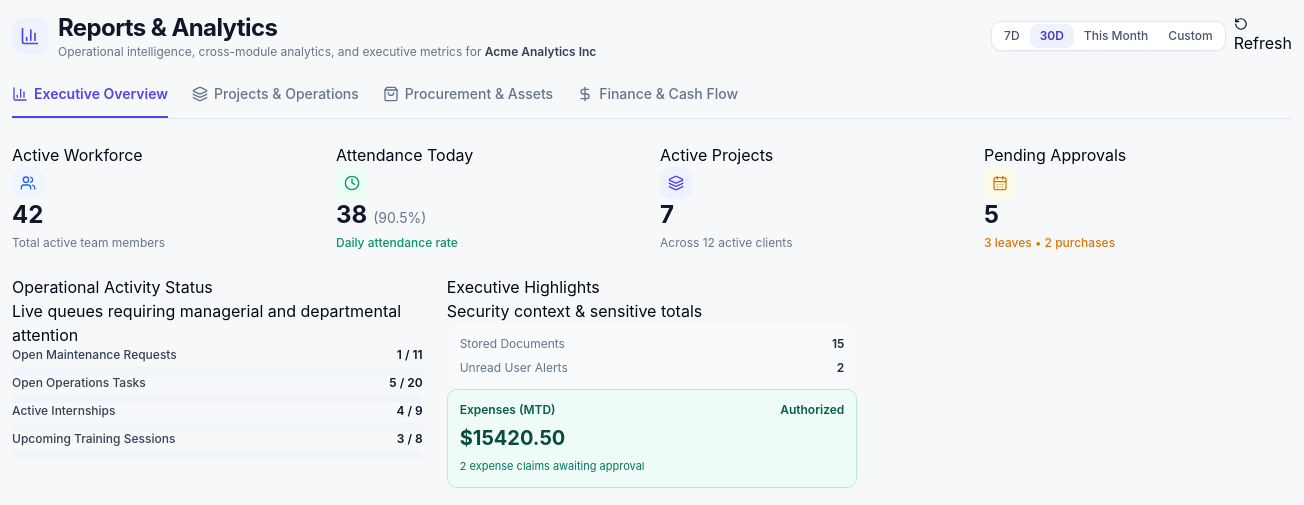
Test: ReportsPage Component › switches to Finance tab and validates strict decimal precision
Expected: the text "42" is shown, [12, 200, 43, 229]
Step 1. Click the button "Finance & Cash Flow" → coordinates (658, 101), box [577, 84, 738, 118]
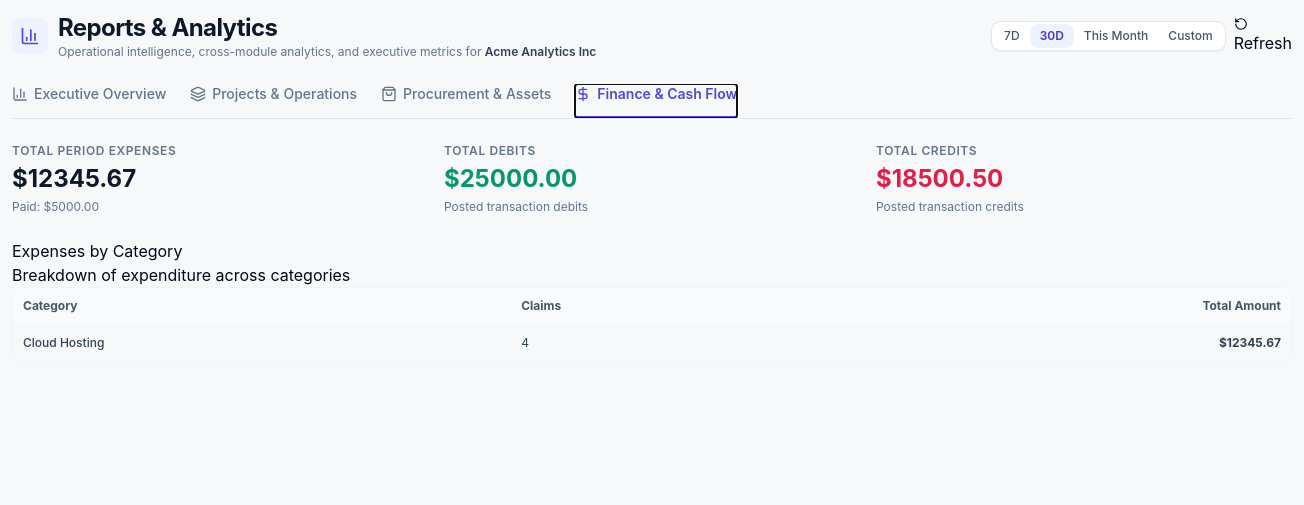
Result: the text "$25000.00" is shown at [444, 164, 577, 193]
Result: the text "Cloud Hosting" is shown at [13, 324, 511, 361]
